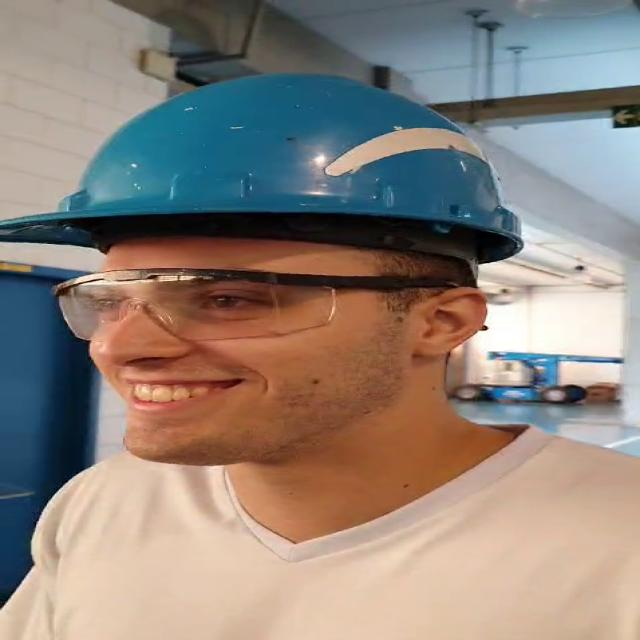oculos-epi: (56, 269, 406, 340)
